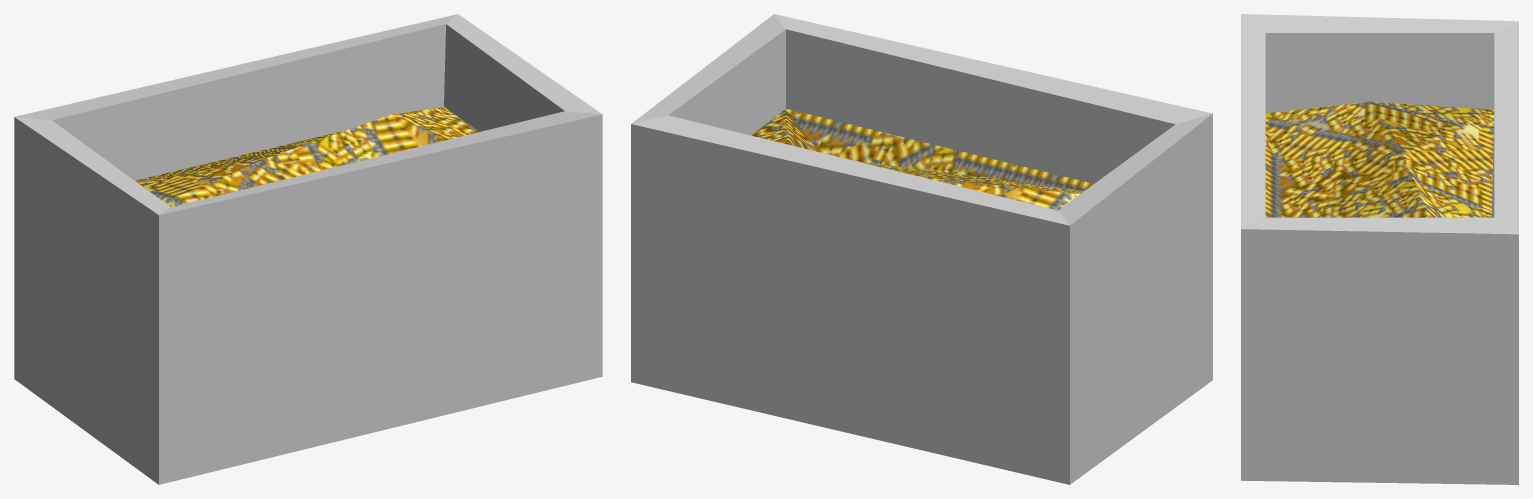
The model's file is SmallAmmoCrate.fbx.
3 views of the same model, side by side, from view 1: azimuth 30°, elevation 25°; view 2: azimuth 150°, elevation 25°; view 3: azimuth 270°, elevation 25° (orthographic). The views are drawn at different scales.
Visible parts, largest first — view 1: AmmoCrate; view 2: AmmoCrate; view 3: AmmoCrate.
Boxes of the visible parts, left/top/right/bottom form: AmmoCrate: left=14, top=14, right=602, bottom=484; AmmoCrate: left=631, top=14, right=1212, bottom=484; AmmoCrate: left=1241, top=14, right=1518, bottom=484.
Bounding box in the file's own units: 354 × 209 × 200.
